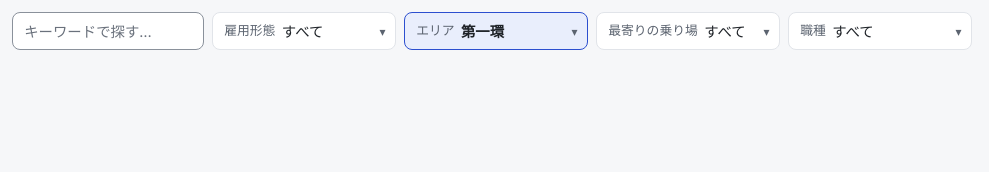
Scenario: FilterForm（上の横並びのチップ） › チェックを入れると、その条件を足した URL へ移り、ページは 1 に戻す。チップの表示も変わる
Click the heading "雇用形態 すべて ▾" at (304, 31), box x1=212 y1=12 x2=396 y2=50
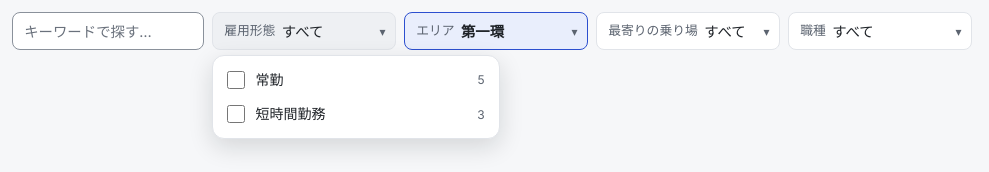
Click the checkbox labelled "常勤" at (236, 80), box x1=227 y1=71 x2=245 y2=89
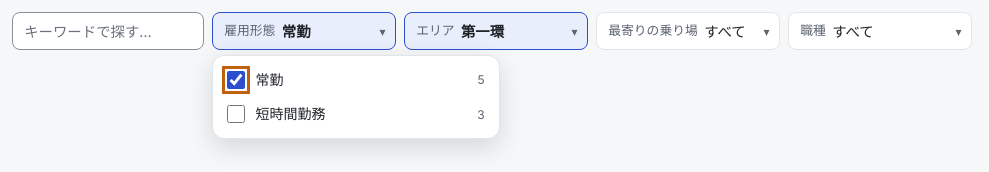
Expected: the checkbox labelled "常勤" is checked, x1=227 y1=71 x2=245 y2=89
Expected: the heading "雇用形態 常勤 ▾" is shown, x1=212 y1=12 x2=396 y2=50
